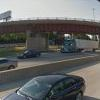Bridge: (4, 7, 98, 42)
